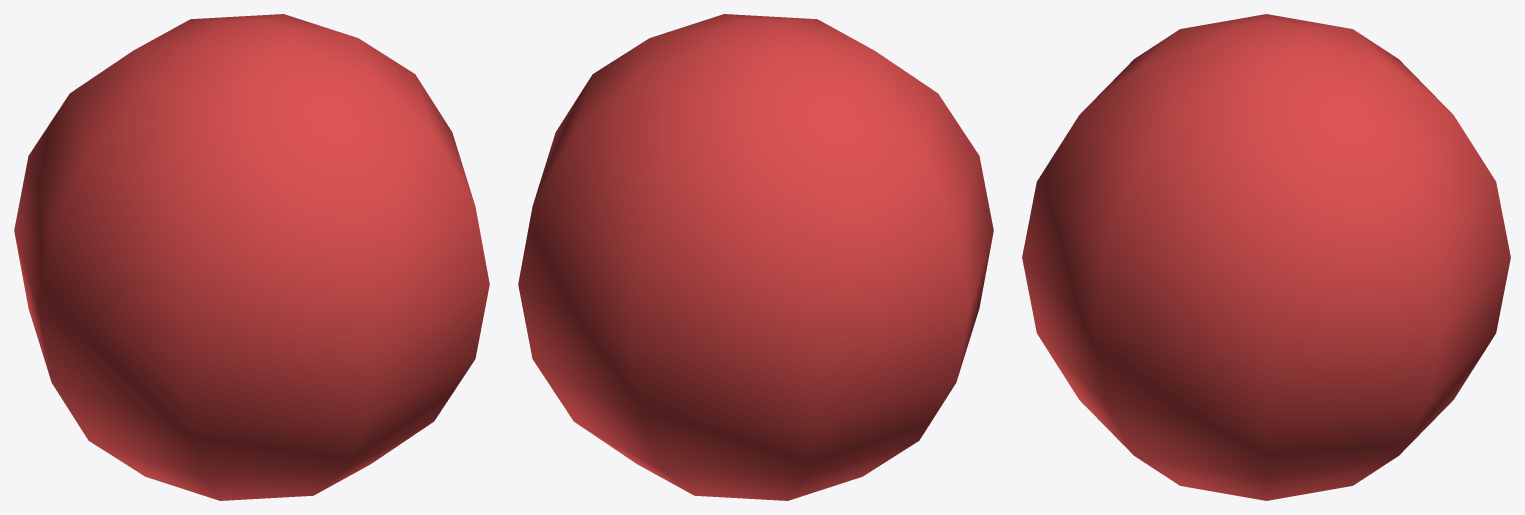
The model's file is awbe.hrc.gltf.
The picture shows the model from 3 angles, left to right: view 1: azimuth 30°, elevation 25°; view 2: azimuth 150°, elevation 25°; view 3: azimuth 270°, elevation 25°; orthographic projection.
Visible parts, largest first — view 1: awbeBone0_null; view 2: awbeBone0_null; view 3: awbeBone0_null.
Part boxes in pixels (bbox=[...]): awbeBone0_null: bbox=[14, 14, 489, 500]; awbeBone0_null: bbox=[518, 14, 993, 500]; awbeBone0_null: bbox=[1022, 14, 1510, 500].
Size of the model in its own units: 4.65 by 4.58 by 4.65.
